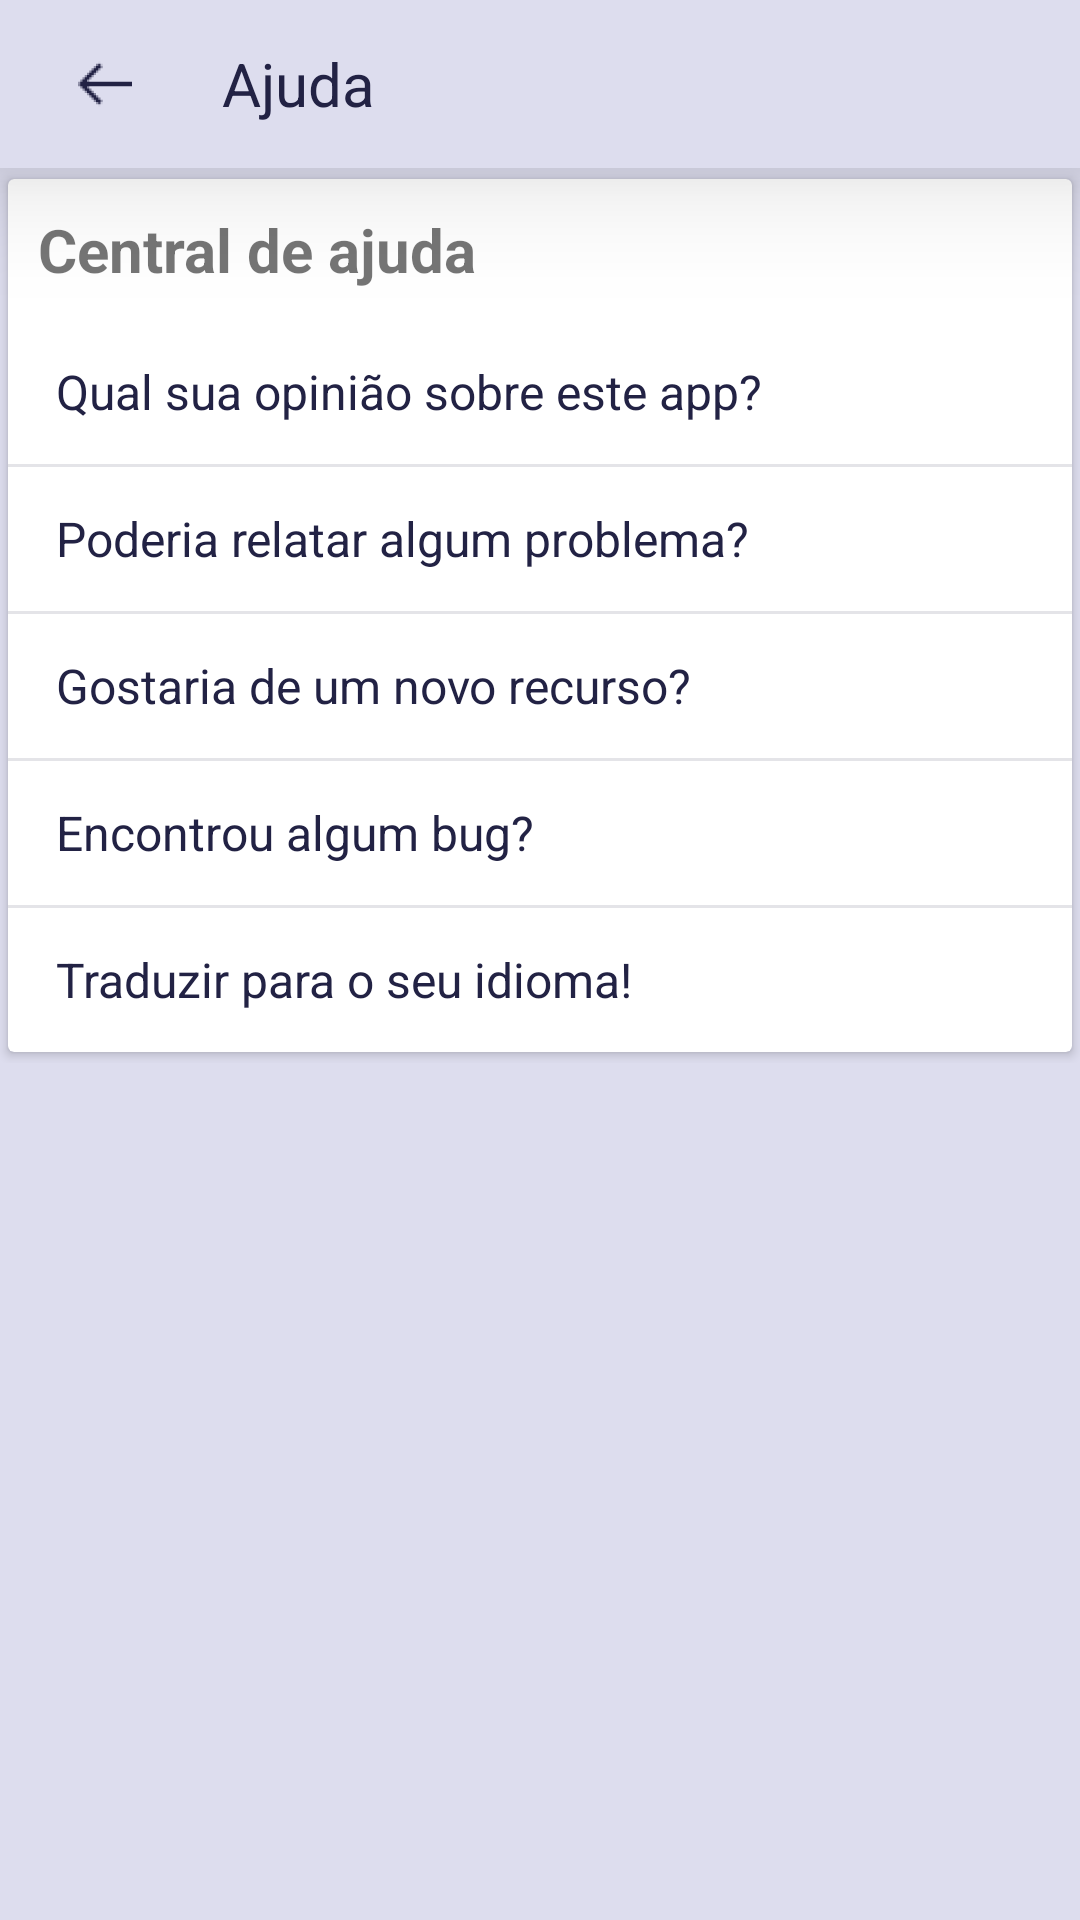

Named icons in this screenshot (1080w x 1920h) and their centers, point (x, y):
back: point (105, 84)
